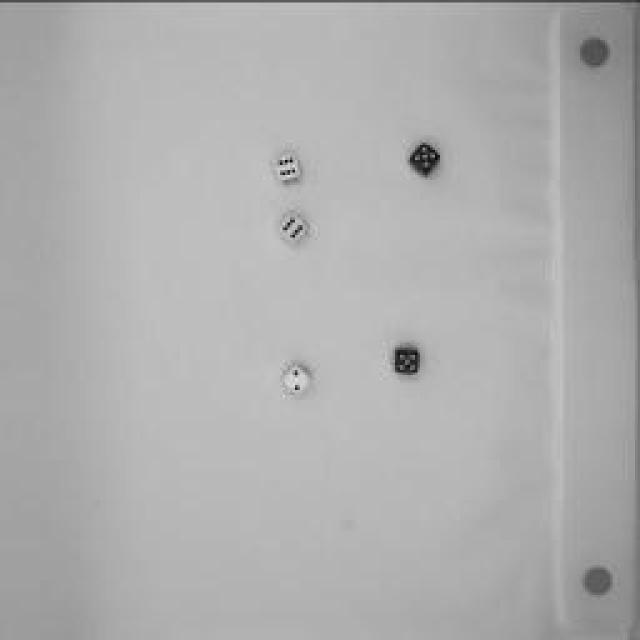dice_2: (275, 358, 317, 400)
dice_5: (405, 138, 445, 178), (389, 339, 426, 381)
dice_6: (269, 148, 309, 192), (275, 206, 315, 249)
